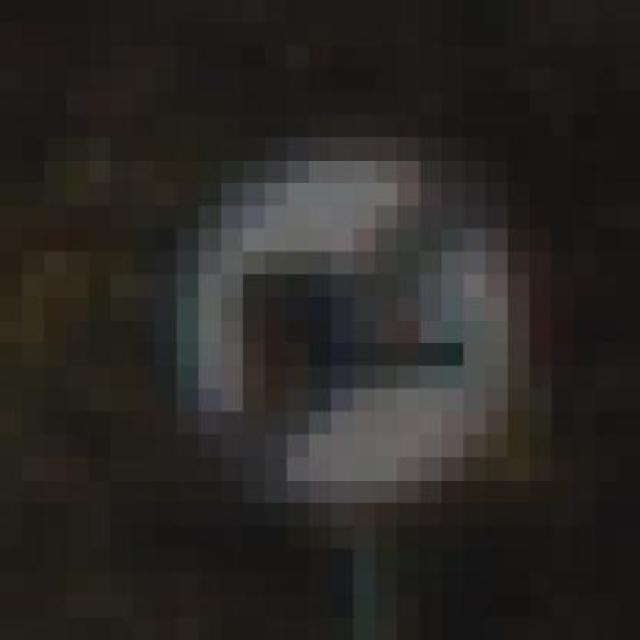Overtaking by trucks is prohibited: (111, 91, 574, 526)
